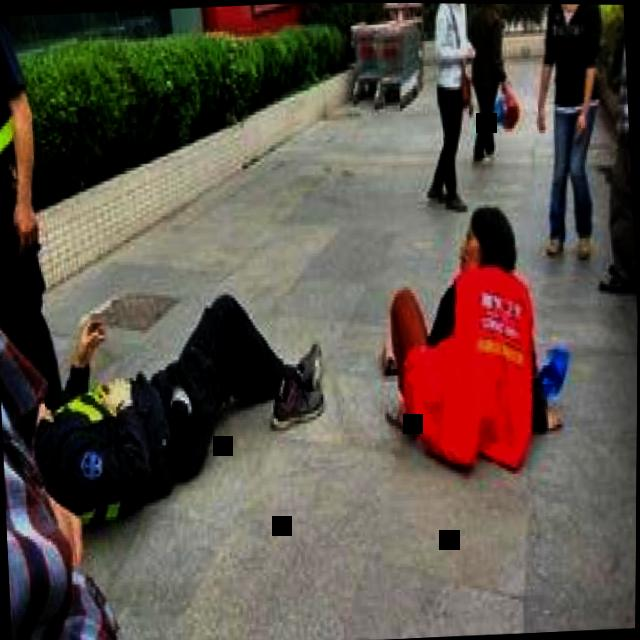Fall-Detected: (11, 254, 350, 536)
